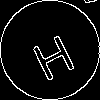H: (25, 25, 78, 83)
